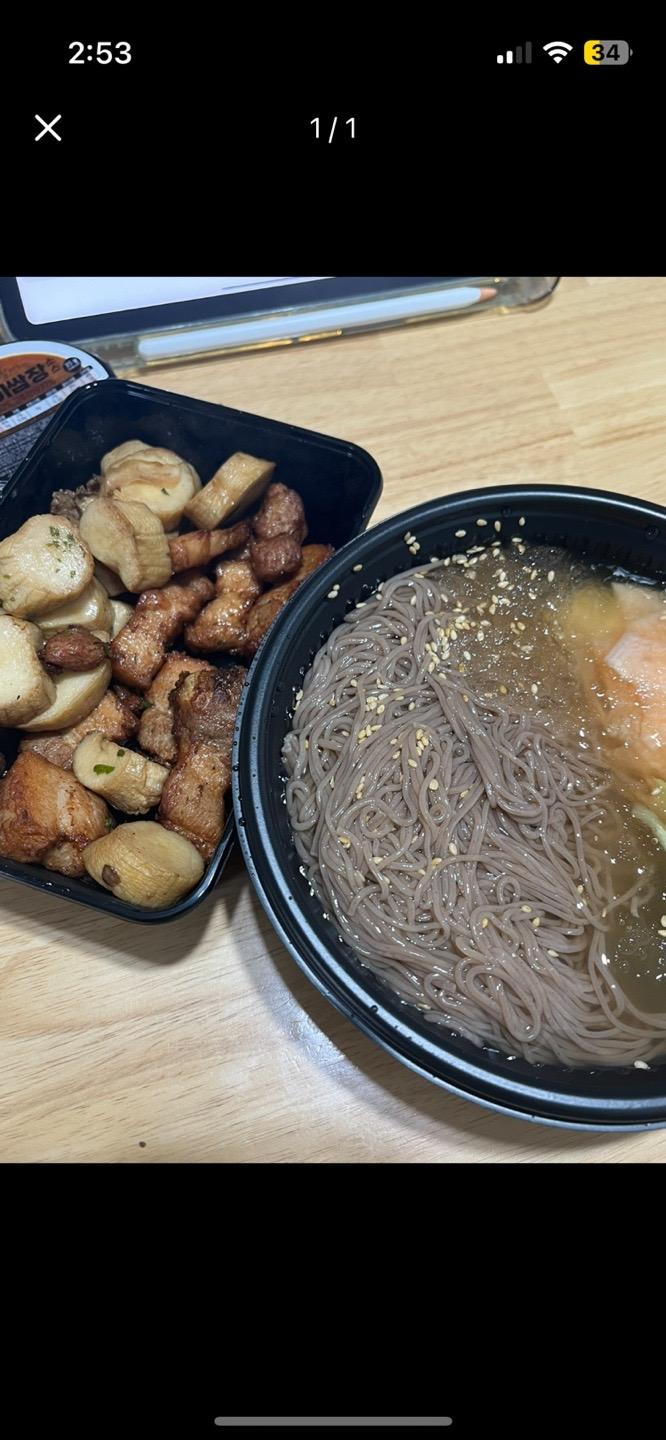Lunch Box: (232, 486, 665, 1131), (0, 381, 381, 920)
